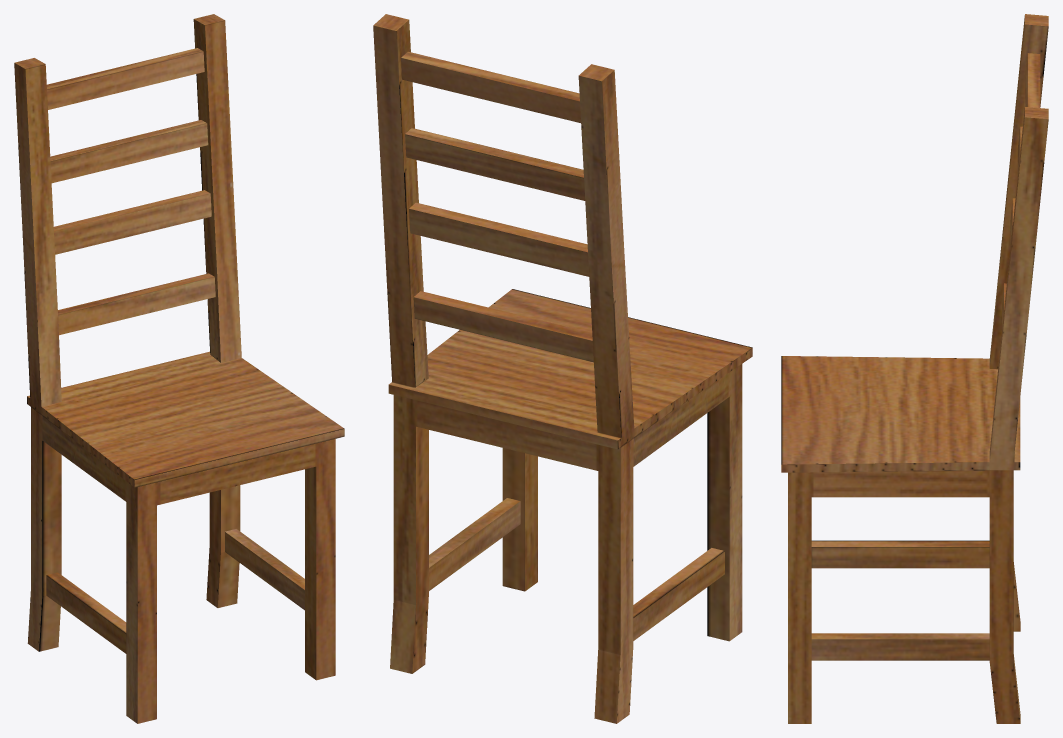
File: Chairs.FBX
3 views of the same model, side by side, from view 1: azimuth 30°, elevation 25°; view 2: azimuth 150°, elevation 25°; view 3: azimuth 270°, elevation 25° (orthographic). The views are drawn at different scales.
Parts seen in each view (by area): view 1: chair; view 2: chair; view 3: chair.
Boxes of the visible parts, left/top/right/bottom form: chair: left=14, top=14, right=344, bottom=723; chair: left=373, top=14, right=752, bottom=723; chair: left=781, top=14, right=1048, bottom=723.
Bounding box in the file's own units: 108 × 281 × 112.
